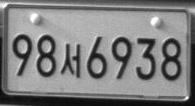3: (135, 36, 156, 81)
6: (85, 35, 108, 79)
8: (159, 37, 182, 81), (35, 33, 57, 77)
9: (110, 35, 132, 80), (11, 33, 32, 76)
서: (60, 43, 81, 78)
